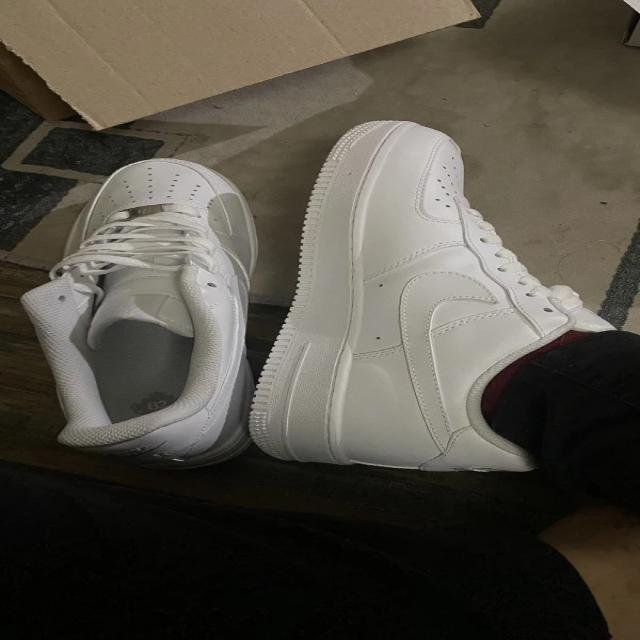nike original air force: (250, 118, 636, 476), (21, 154, 278, 470)
